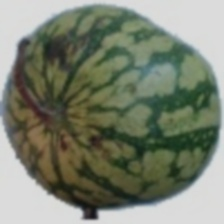watermelon: (23, 55, 200, 207)
